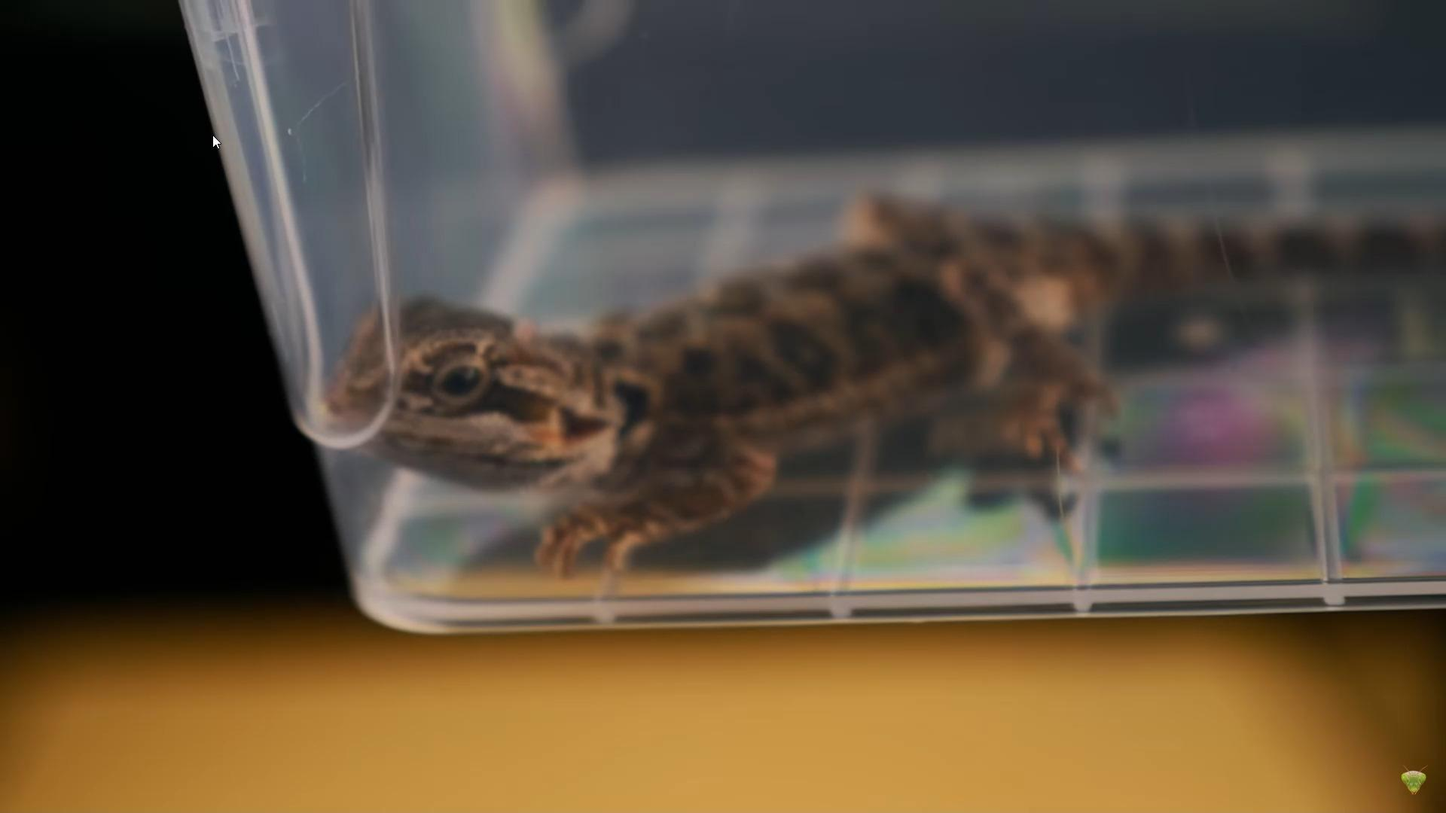lizard: (310, 179, 1258, 572)
